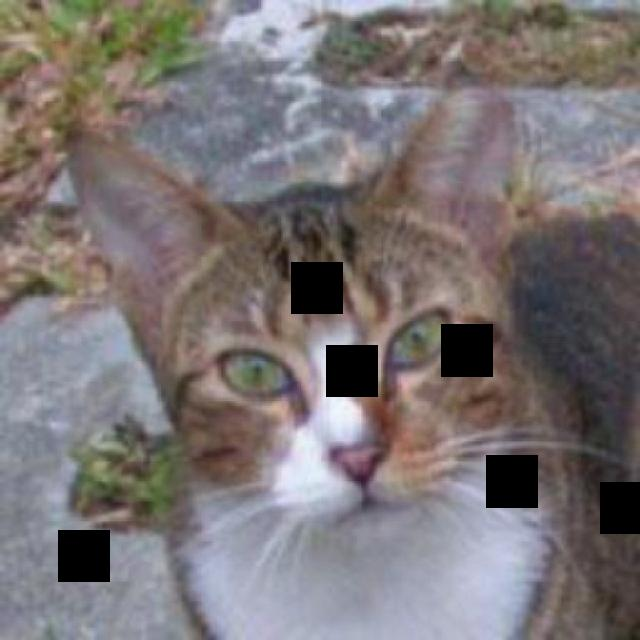unauthorized: (61, 83, 638, 639)
